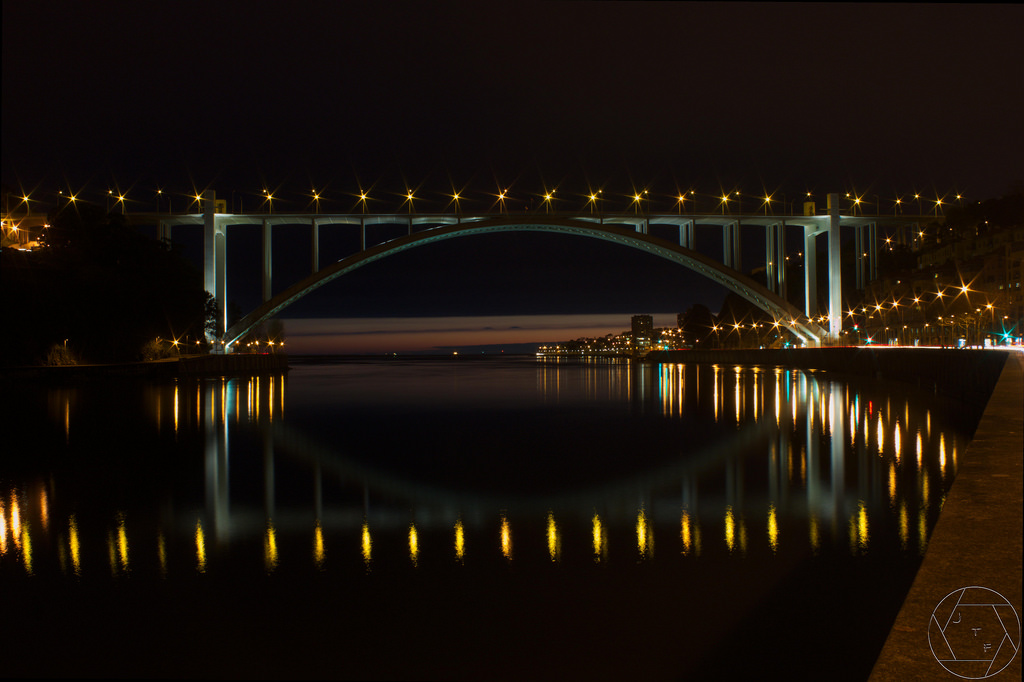arrabida: (160, 190, 893, 355)
